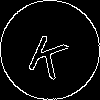K: (25, 25, 75, 81)
